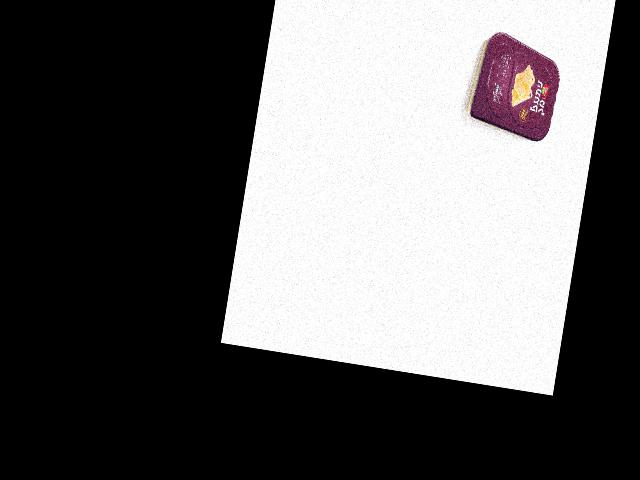cheese: (461, 28, 566, 143)
